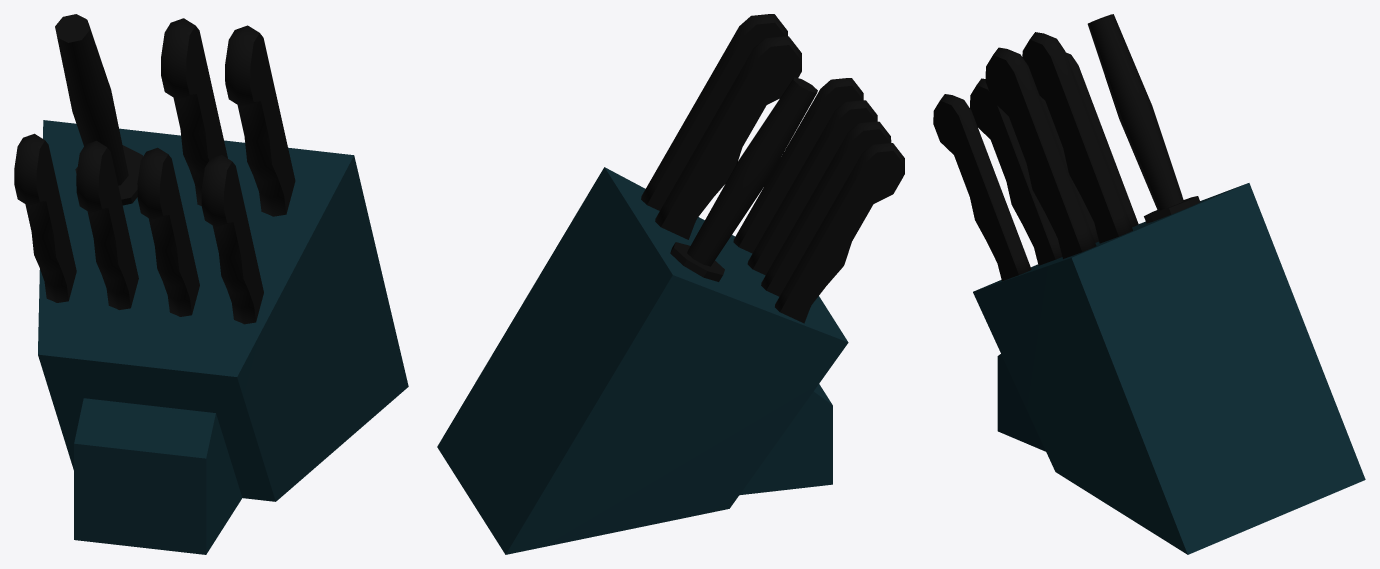
File: Knifeset_Naughty_3.FBX
The picture shows the model from 3 angles, left to right: view 1: azimuth 30°, elevation 25°; view 2: azimuth 150°, elevation 25°; view 3: azimuth 270°, elevation 25°; orthographic projection. The views are drawn at different scales.
Parts seen in each view (by area): view 1: Knife_Block; view 2: Knife_Block; view 3: Knife_Block.
Part boxes in pixels (x1,y1,x2,y2): Knife_Block: (14,14,408,554); Knife_Block: (437,14,904,554); Knife_Block: (933,14,1365,554).
Bounding box in the file's own units: 21.51 × 21.75 × 21.43.
